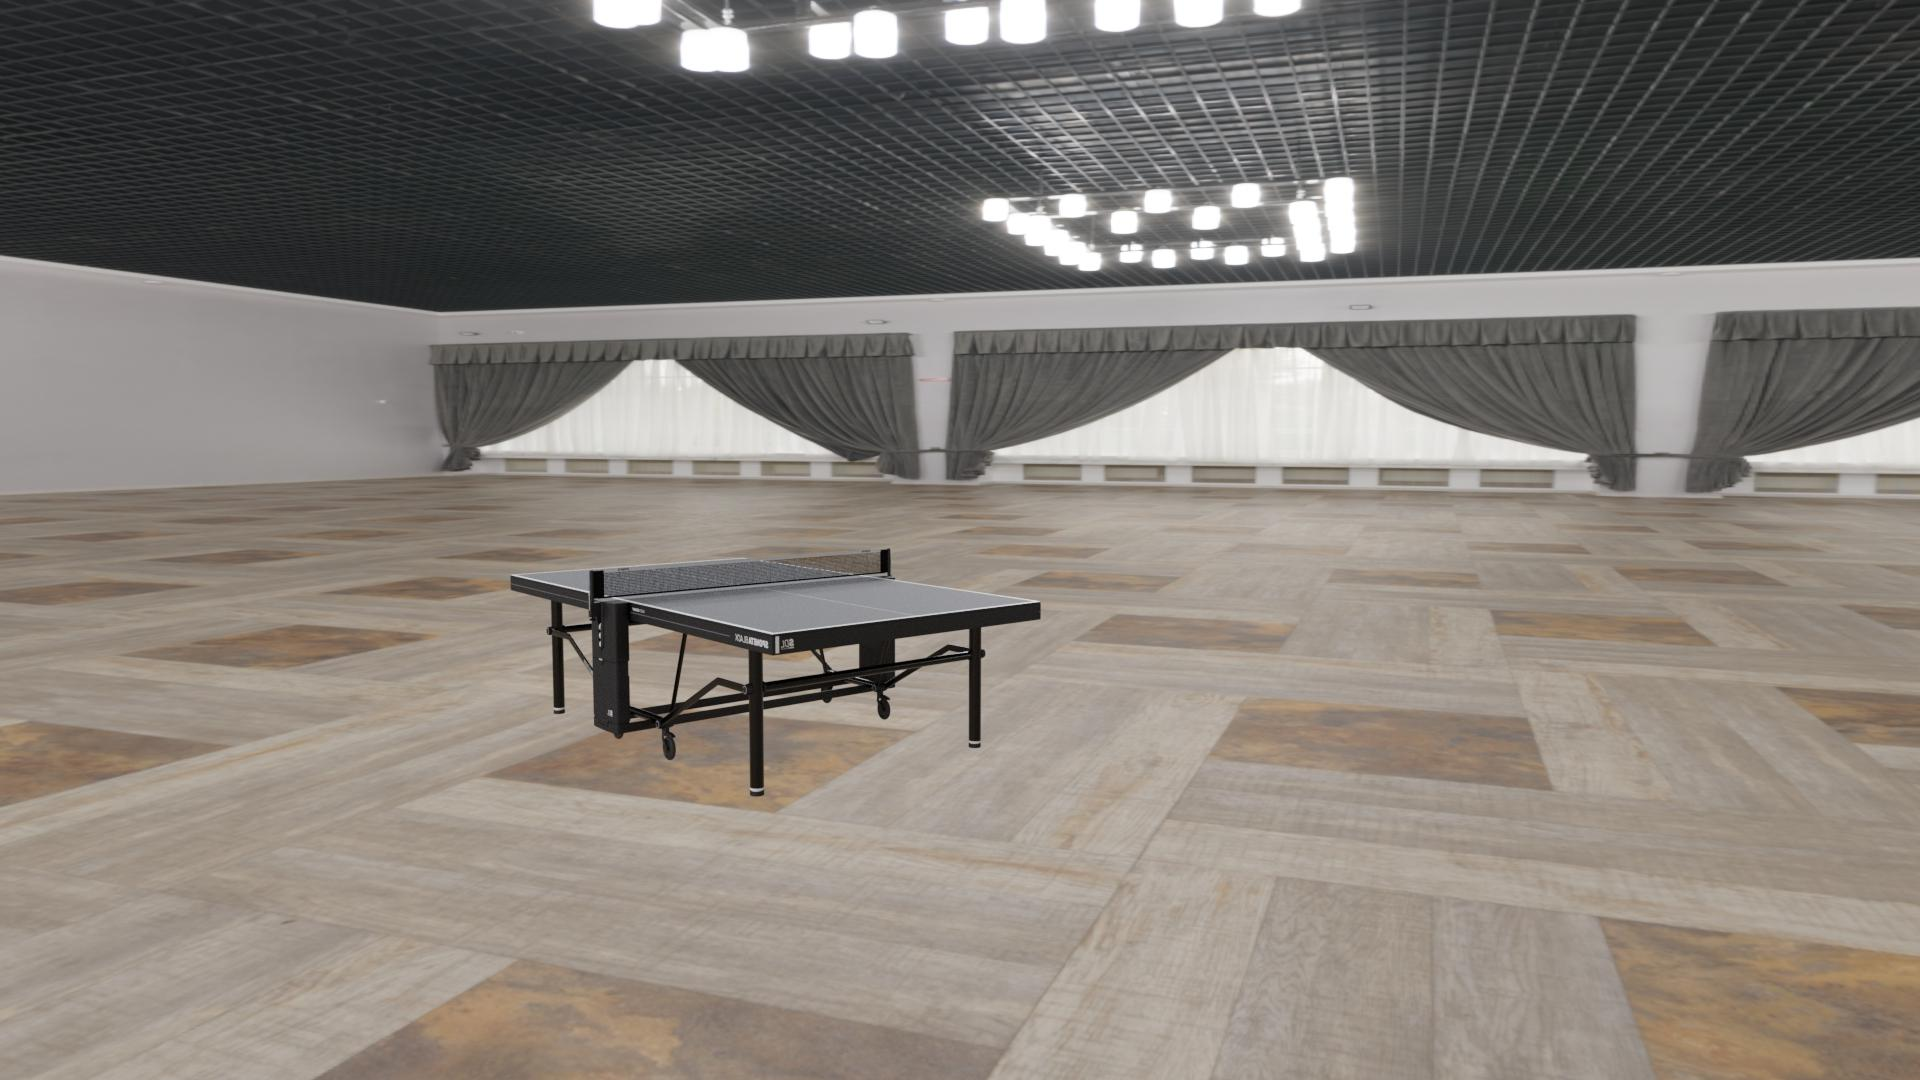table: (516, 558, 1035, 633)
